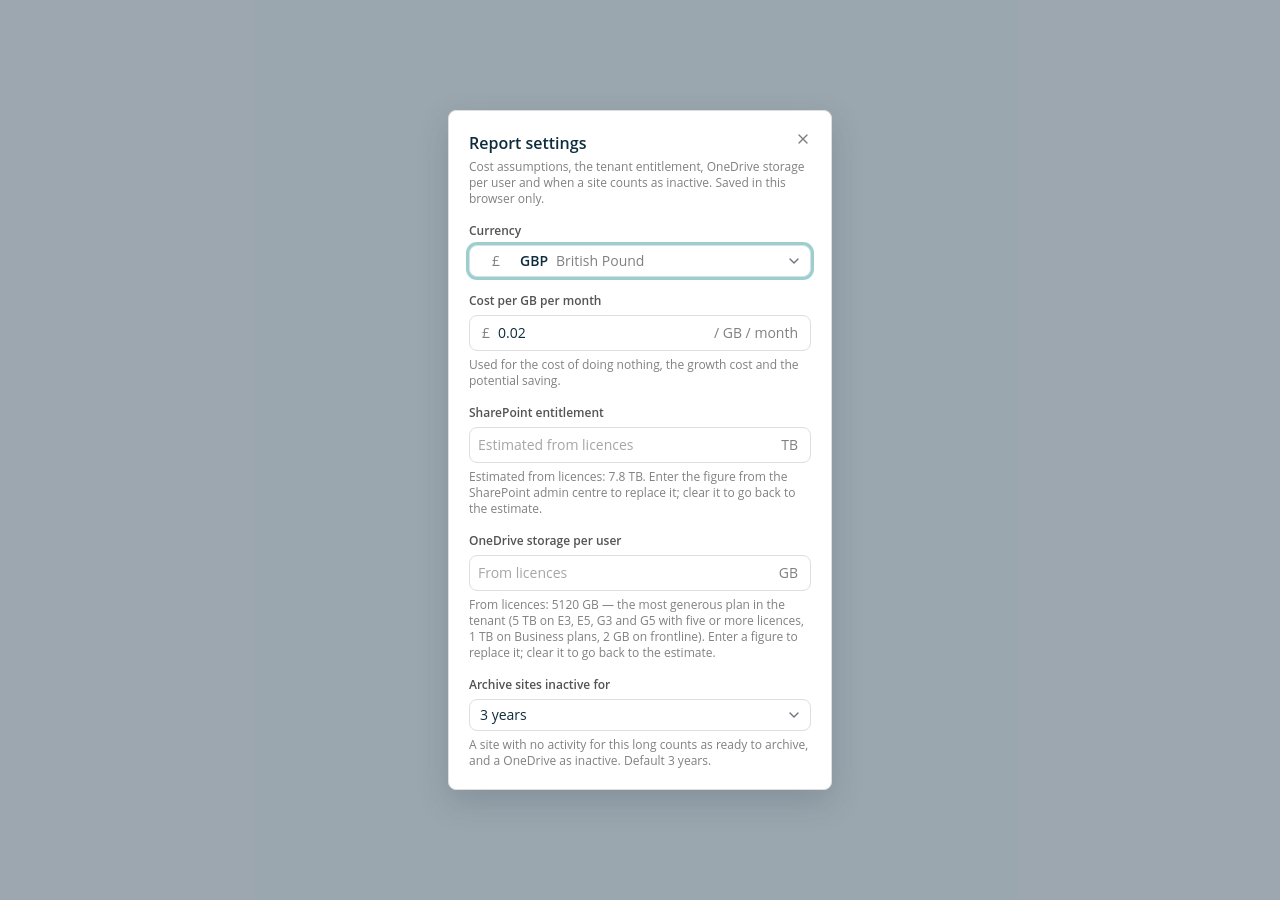
Test: SettingsDialog › keeps a half-typed 0 on the way to 0.5 rather than clearing the field
Type "0" into the number field labelled "OneDrive storage per user" at (624, 573), box [470,557,779,589]
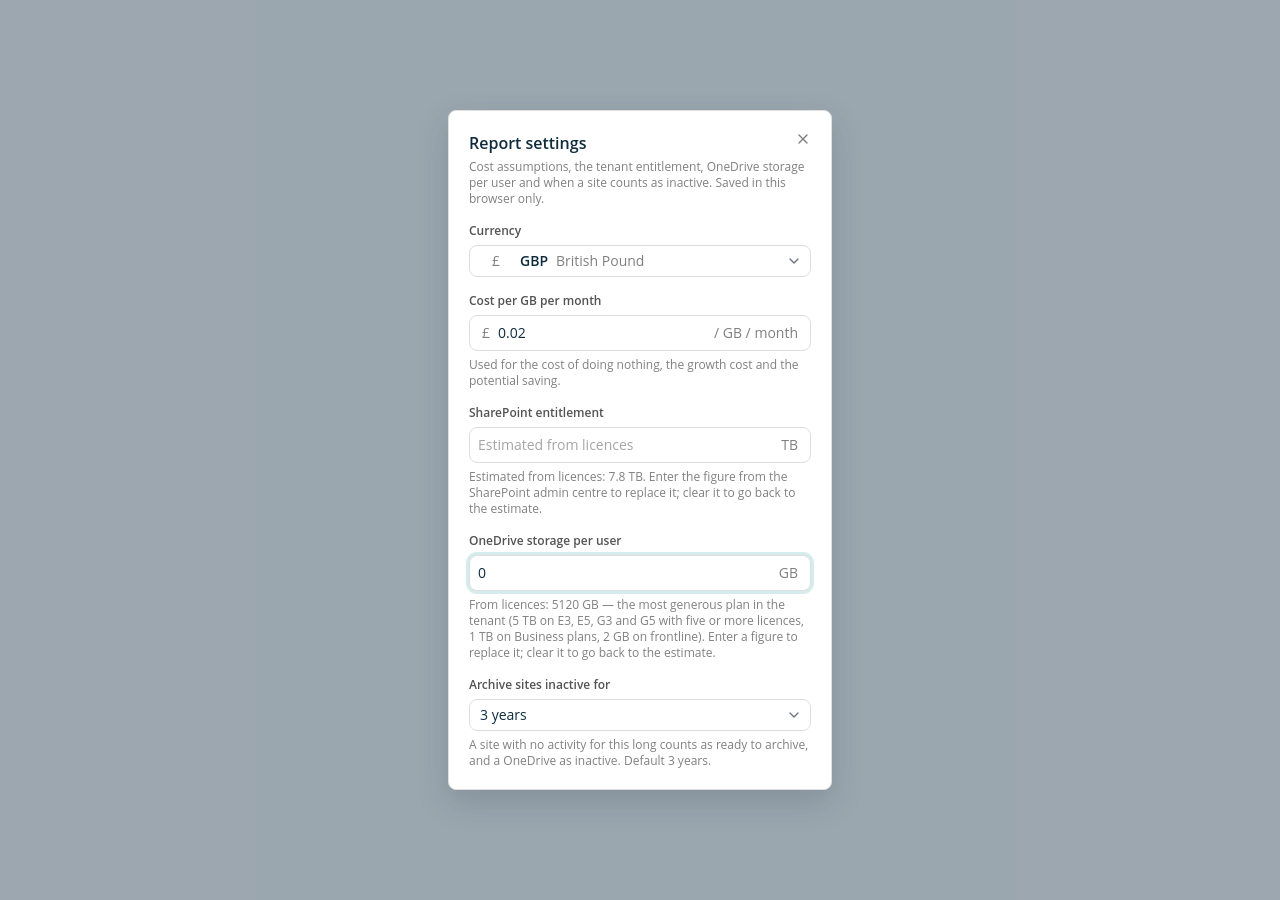
Type ".5" into the number field labelled "OneDrive storage per user" at (624, 573), box [470,557,779,589]
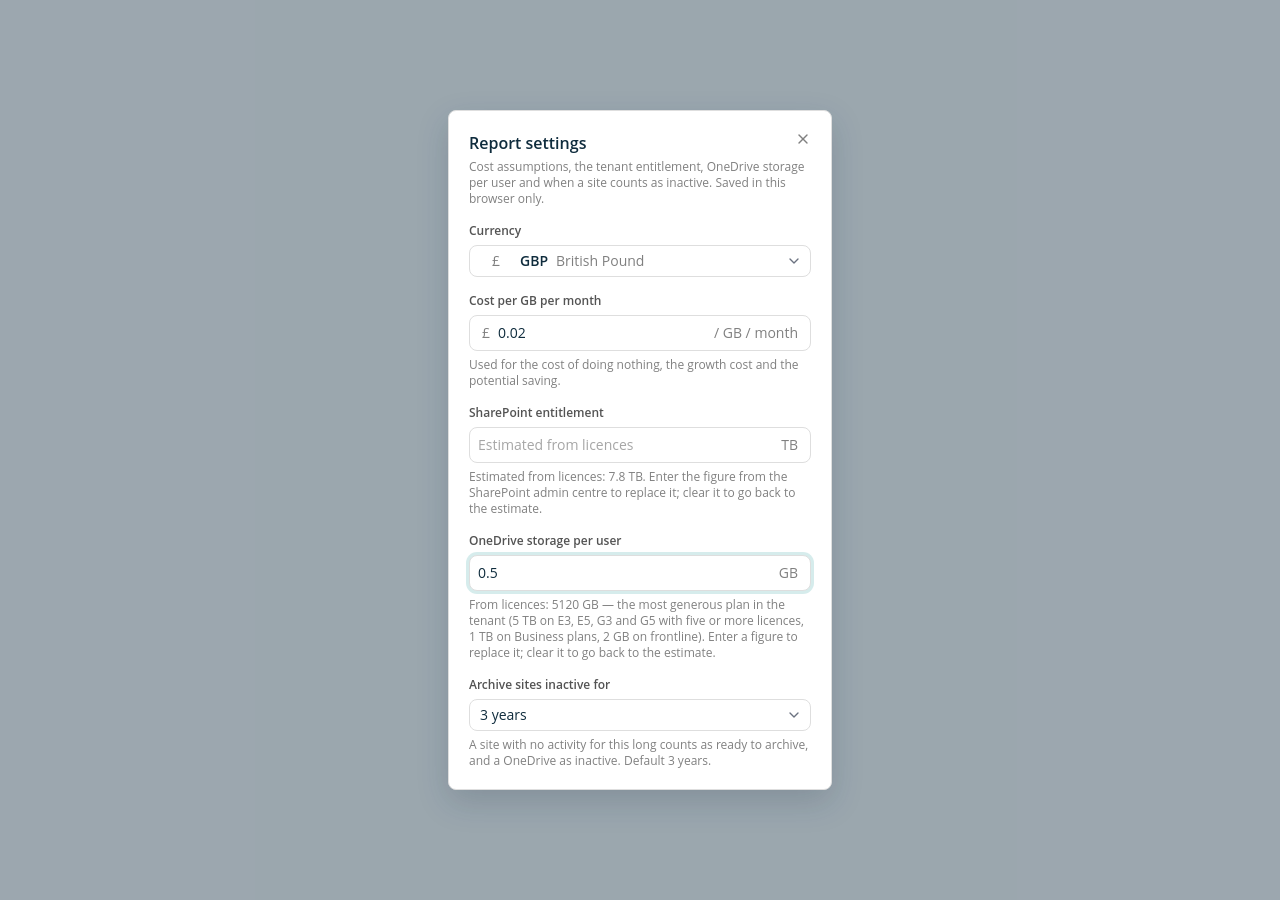
expect the number field labelled "OneDrive storage per user" holds "0.5": met, box [470,557,779,589]
